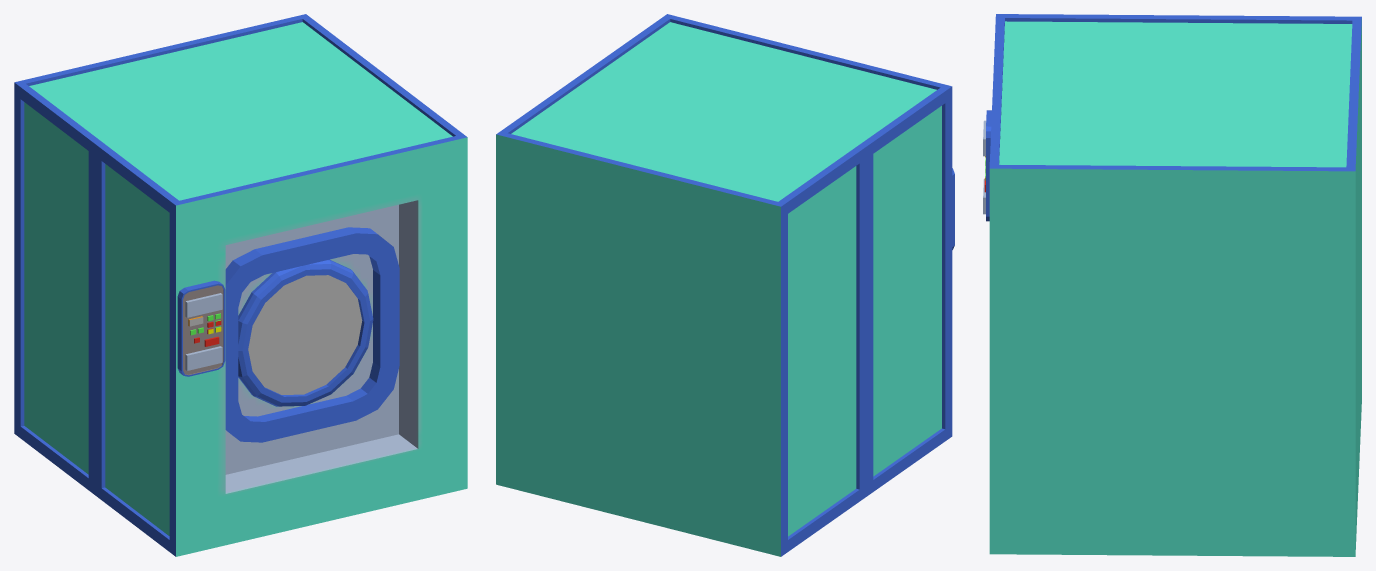
Rendered from washing_machine_02.fbx.
3 views of the same model, side by side, from view 1: azimuth 30°, elevation 25°; view 2: azimuth 150°, elevation 25°; view 3: azimuth 270°, elevation 25° (orthographic). The views are drawn at different scales.
Visible parts, largest first — view 1: washing_machine_02, washing_machine_lid_02; view 2: washing_machine_02; view 3: washing_machine_02.
Boxes of the visible parts, x1,y1,x2,y2 form: washing_machine_02: [14, 14, 467, 556]; washing_machine_lid_02: [238, 259, 373, 406]; washing_machine_02: [496, 14, 954, 556]; washing_machine_02: [983, 14, 1361, 556].
Bounding box in the file's own units: 424 × 485 × 432.
